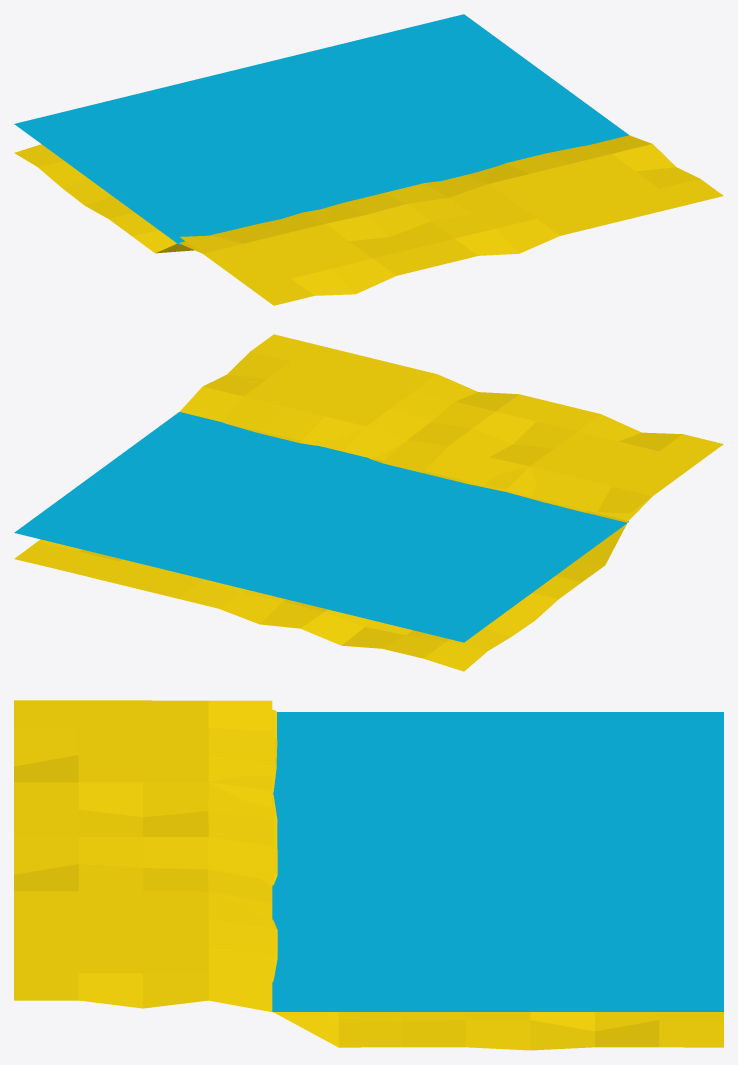
Rendered from beach.glb.
The picture shows the model from 3 angles, top to bottom: view 1: azimuth 30°, elevation 25°; view 2: azimuth 150°, elevation 25°; view 3: azimuth 270°, elevation 25°; orthographic projection. The views are drawn at different scales.
Visible parts, largest first — view 1: sea, beach; view 2: sea, beach; view 3: sea, beach.
Boxes of the visible parts, x1,y1,x2,y2 form: sea: [14, 14, 628, 244]; beach: [14, 135, 723, 305]; sea: [14, 412, 628, 642]; beach: [14, 334, 723, 671]; sea: [272, 712, 723, 1011]; beach: [14, 700, 723, 1050].
Bounding box in the file's own units: 55 × 4.98 × 55.
